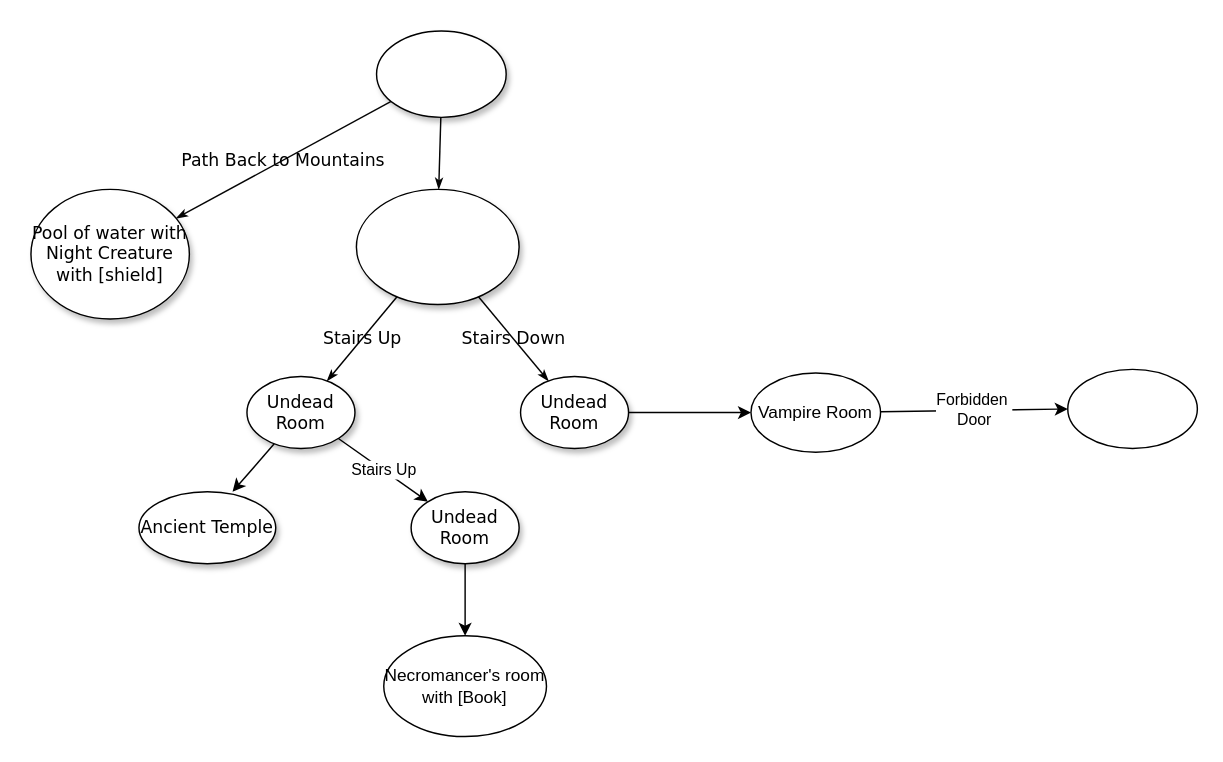
Some shapes in this 1223 by 762 pixel diagram are drawn without their labels. Here are the shapes that lost their labels. From the top down, the centre of each, then its label:
At point (442, 75): "Outside Tower".
At point (438, 248): "Trap Room with [sword, armor] and stairs".
At point (1131, 408): "Forgotten Beast".
